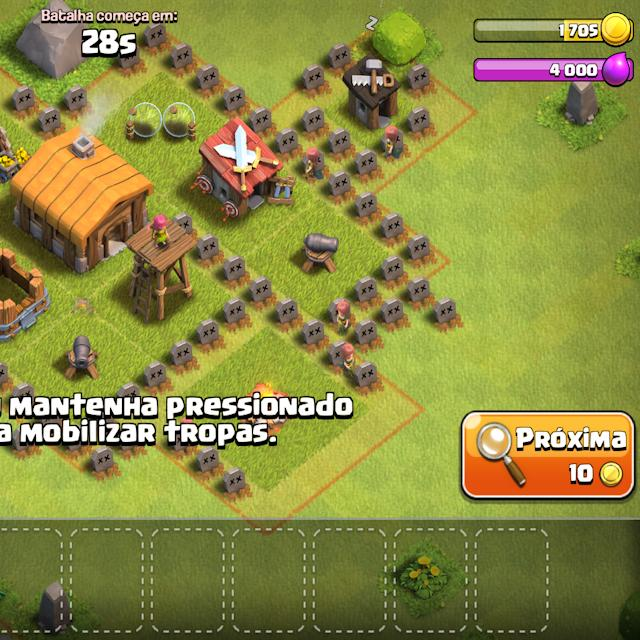Arqueira: (127, 216, 198, 317), (58, 335, 106, 378)
Canhao: (297, 221, 346, 276)
Next: (456, 406, 638, 506)
